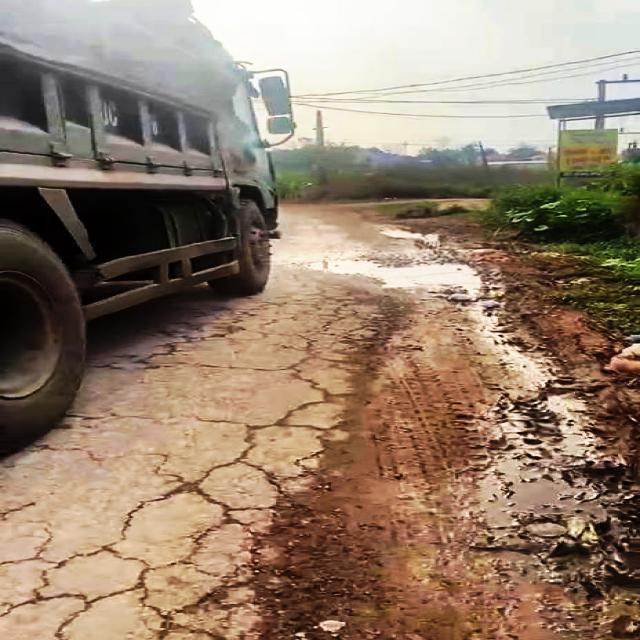pothole: (309, 256, 494, 299)
